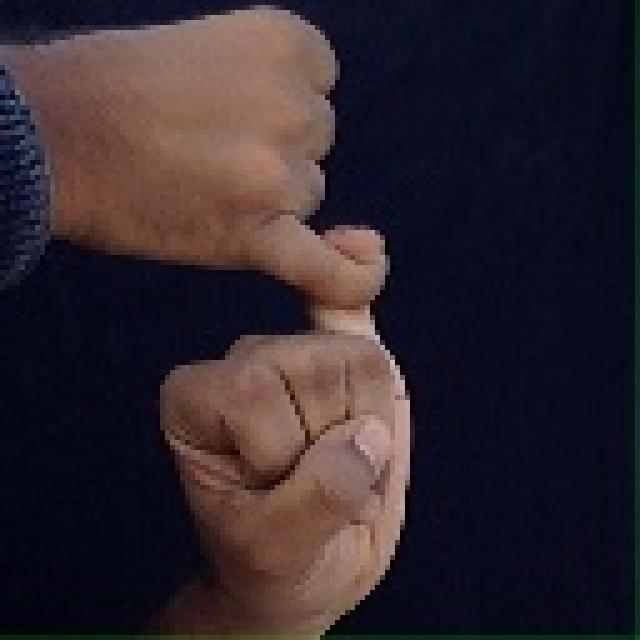S: (1, 3, 413, 640)
